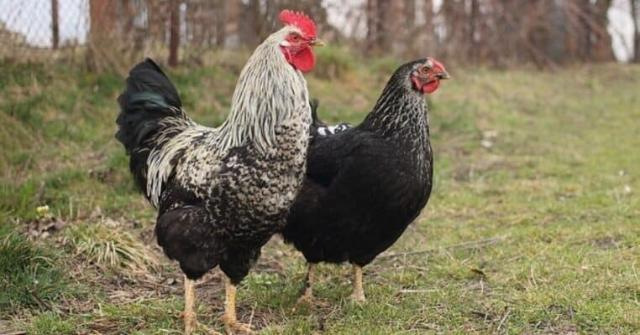Chicken: (116, 8, 326, 335), (276, 58, 451, 308)
